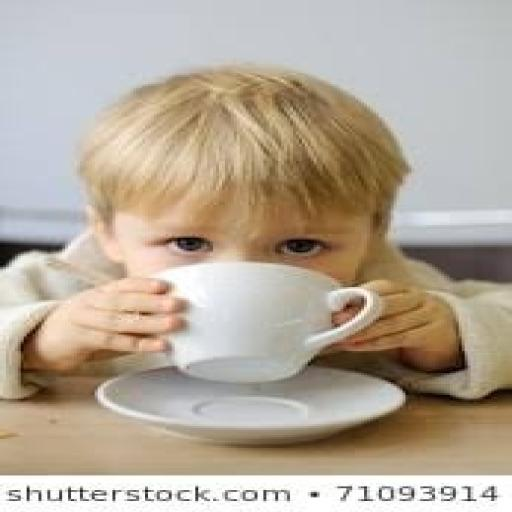drinking: (142, 260, 382, 384)
